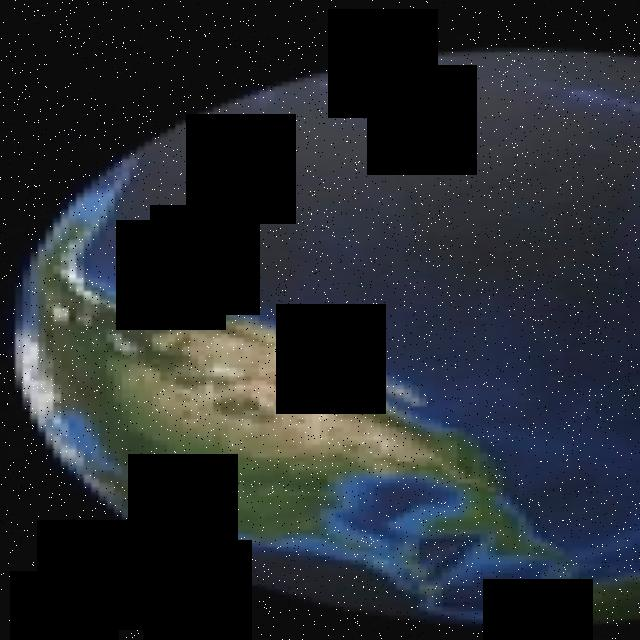Earth: (7, 46, 640, 631)
